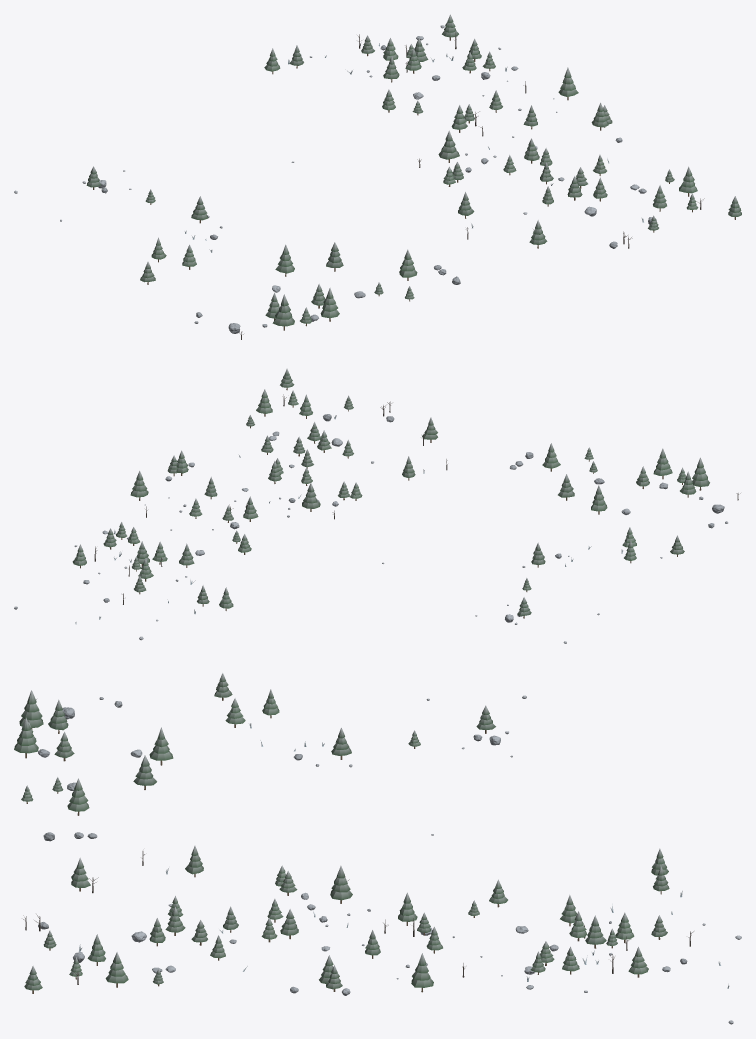
The model's file is frost_land_scatter_c14_09.glb.
3 renders of one model, top to bottom at view 1: azimuth 30°, elevation 25°; view 2: azimuth 150°, elevation 25°; view 3: azimuth 270°, elevation 25°, orthographic. The views are drawn at different scales.
Parts seen in each view (by area): view 1: frost_land_scatter_c14_09; view 2: frost_land_scatter_c14_09; view 3: frost_land_scatter_c14_09.
Part boxes in pixels (x1=…): frost_land_scatter_c14_09: x1=14, y1=14, x2=741, y2=339; frost_land_scatter_c14_09: x1=14, y1=368, x2=740, y2=643; frost_land_scatter_c14_09: x1=14, y1=673, x2=741, y2=1024.
Bounding box in the file's own units: 255 × 29.19 × 261.
